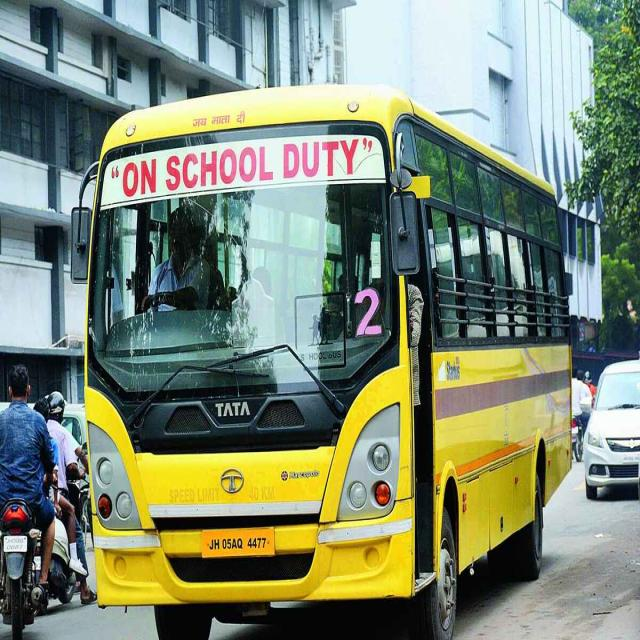bus: (72, 84, 570, 638)
car: (584, 360, 640, 499)
motorcycle: (0, 366, 55, 639)
